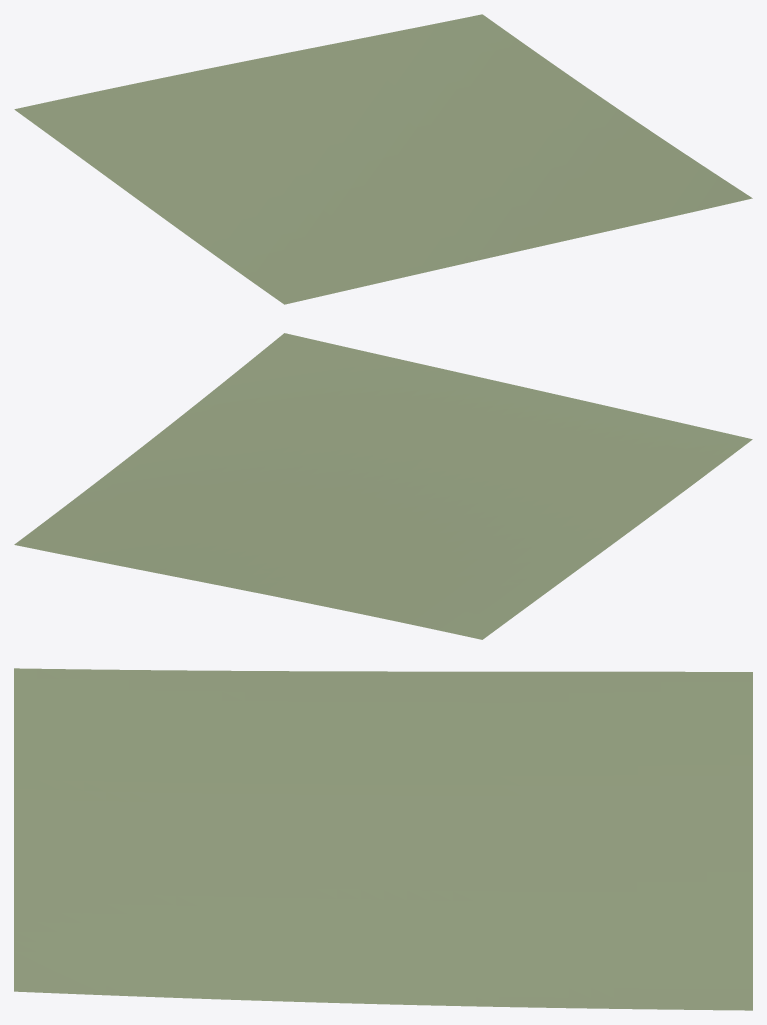
File: expanse-2-24.glb
The picture shows the model from 3 angles, top to bottom: view 1: azimuth 30°, elevation 25°; view 2: azimuth 150°, elevation 25°; view 3: azimuth 270°, elevation 25°; orthographic projection. The views are drawn at different scales.
Parts seen in each view (by area): view 1: expanse-2-24; view 2: expanse-2-24; view 3: expanse-2-24.
Boxes of the visible parts, x1=… form: expanse-2-24: x1=14, y1=14, x2=752, y2=304; expanse-2-24: x1=14, y1=333, x2=752, y2=639; expanse-2-24: x1=14, y1=668, x2=752, y2=1010.
Bounding box in the file's own units: 256 × 11.41 × 256.
